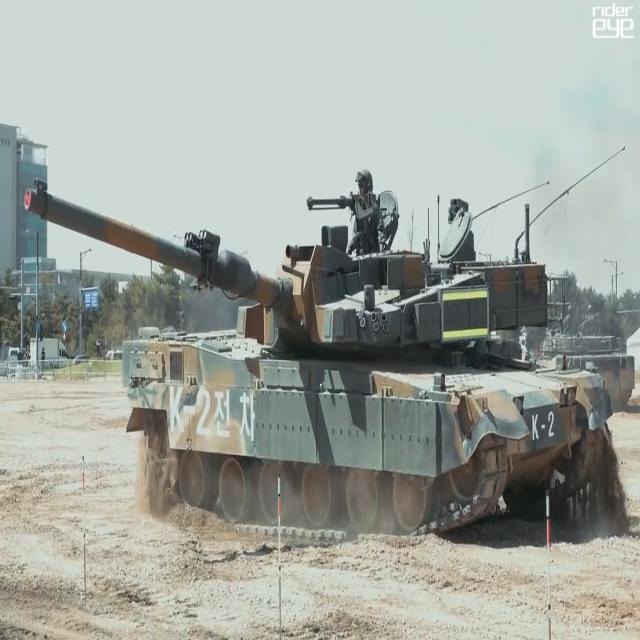korea tank: (24, 166, 614, 542)
